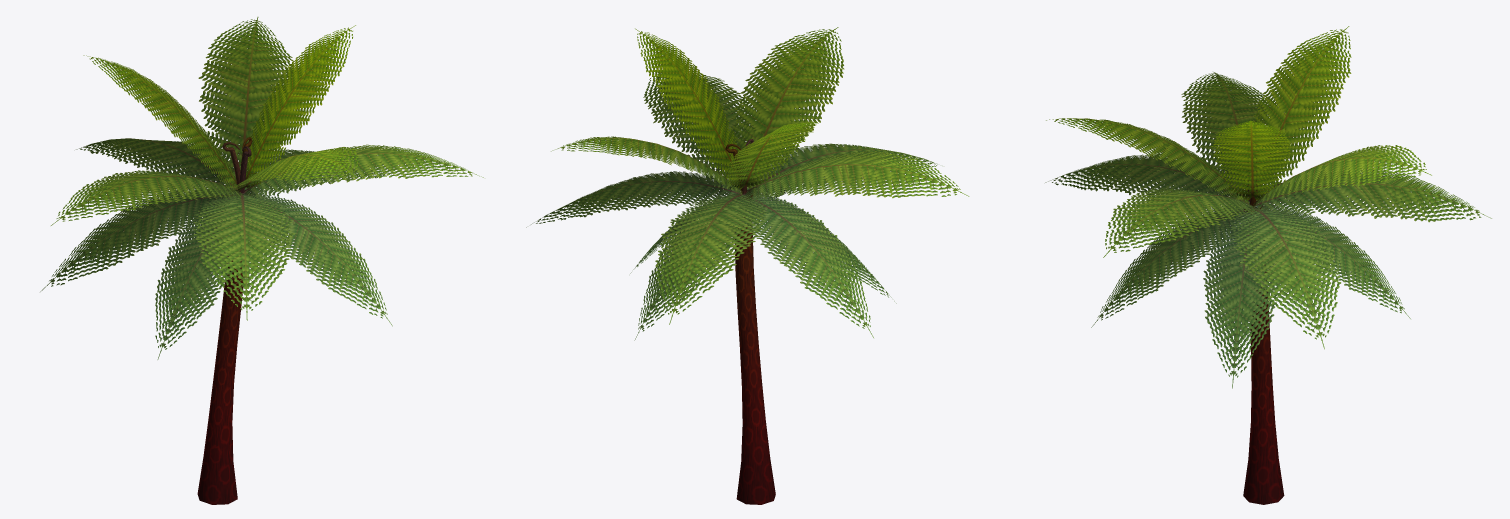
File: helecho_arboreo.glb
3 renders of one model, left to right at view 1: azimuth 30°, elevation 25°; view 2: azimuth 150°, elevation 25°; view 3: azimuth 270°, elevation 25°, orthographic. The views are drawn at different scales.
Visible parts, largest first — view 1: helecho_arboreo; view 2: helecho_arboreo; view 3: helecho_arboreo.
Boxes of the visible parts, x1,y1,x2,y2 form: helecho_arboreo: (40,17,483,504); helecho_arboreo: (526,27,969,504); helecho_arboreo: (1045,26,1491,504).
Size of the model in its own units: 5.14 by 5.29 by 5.19.
2 materials, 2 textured.
